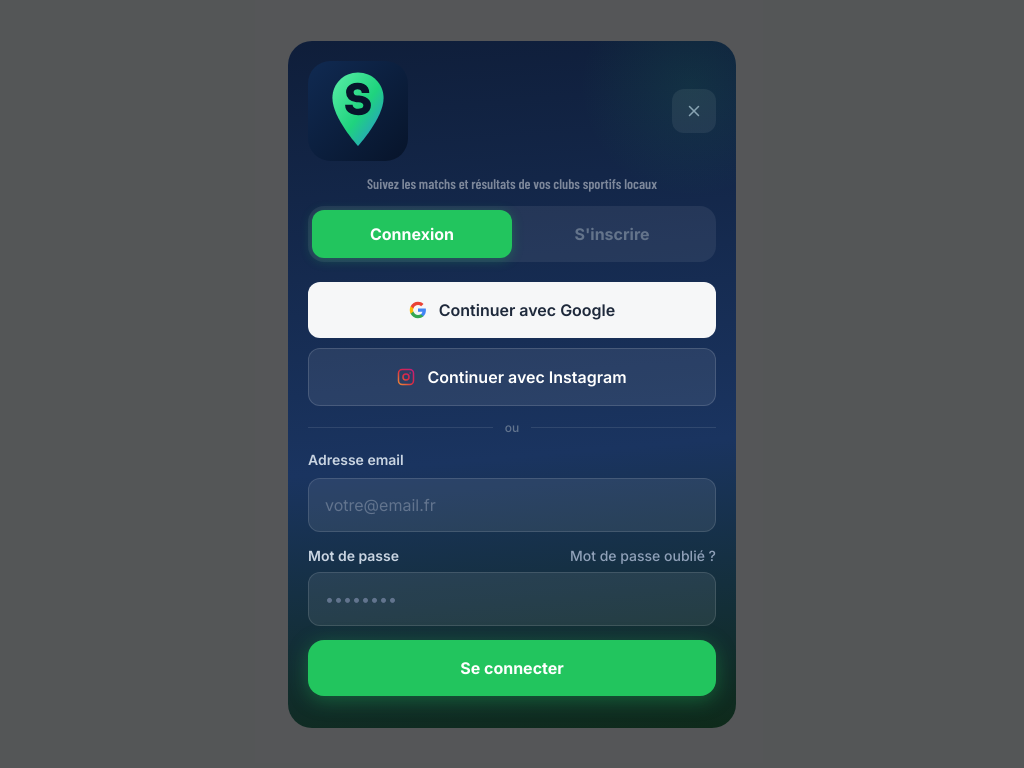
Test: AuthPage — validation register › affiche "Prénom ou surnom requis" si nom vide à la soumission
Click the button "S'inscrire". click: (612, 234)
box: [512,210,712,258]
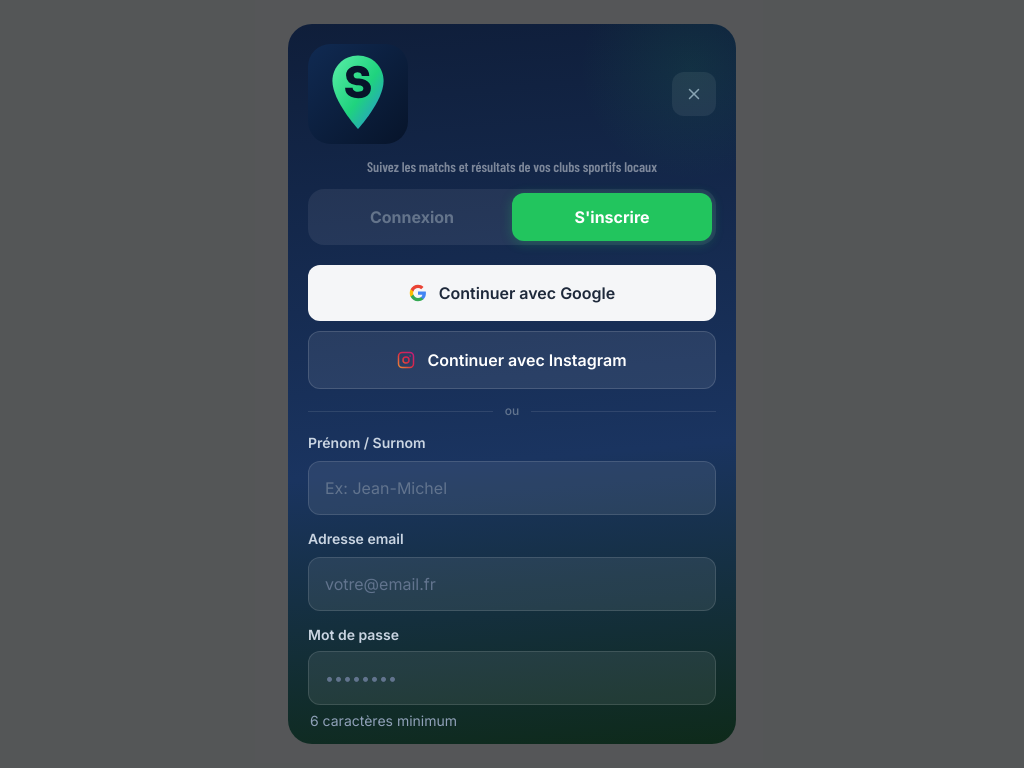
Ne remplit PAS le nom, remplit email + password + confirm
Type "test@test.com" into the field with placeholder "votre@email.fr". click: (512, 584)
box: [308,557,716,611]
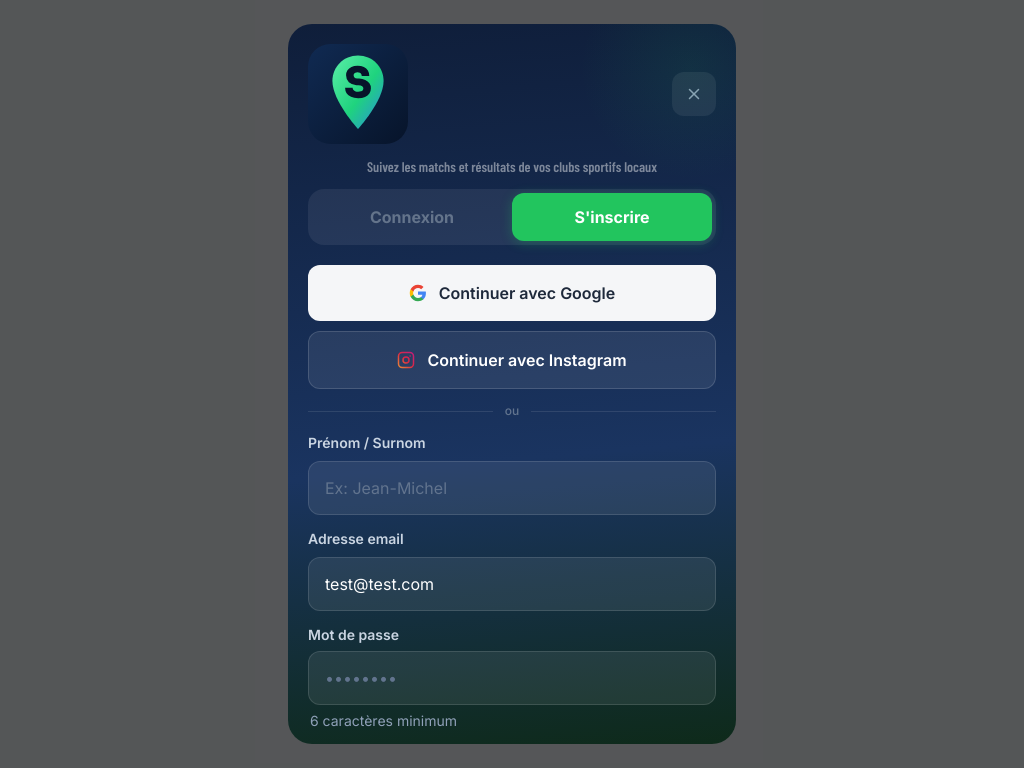
Type "azerty1" into the password field with placeholder "••••••••". click: (512, 678)
box: [308,651,716,705]
(page scrolled)
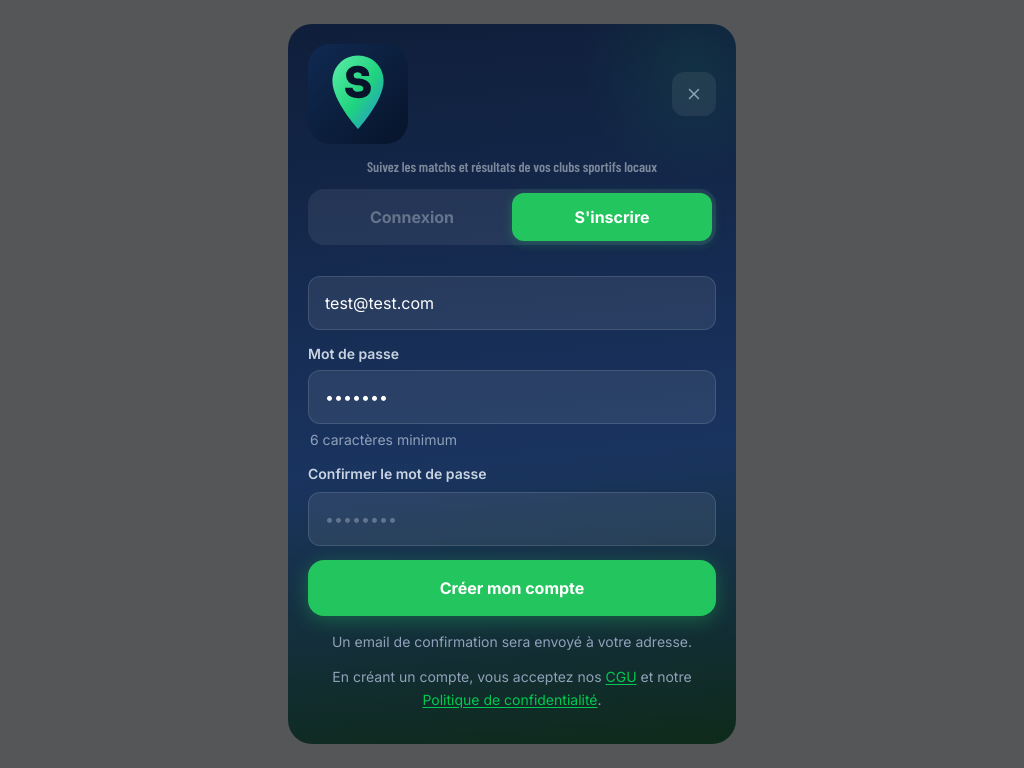
Type "azerty1" into the password field with placeholder "••••••••". click: (512, 519)
box: [308,492,716,546]
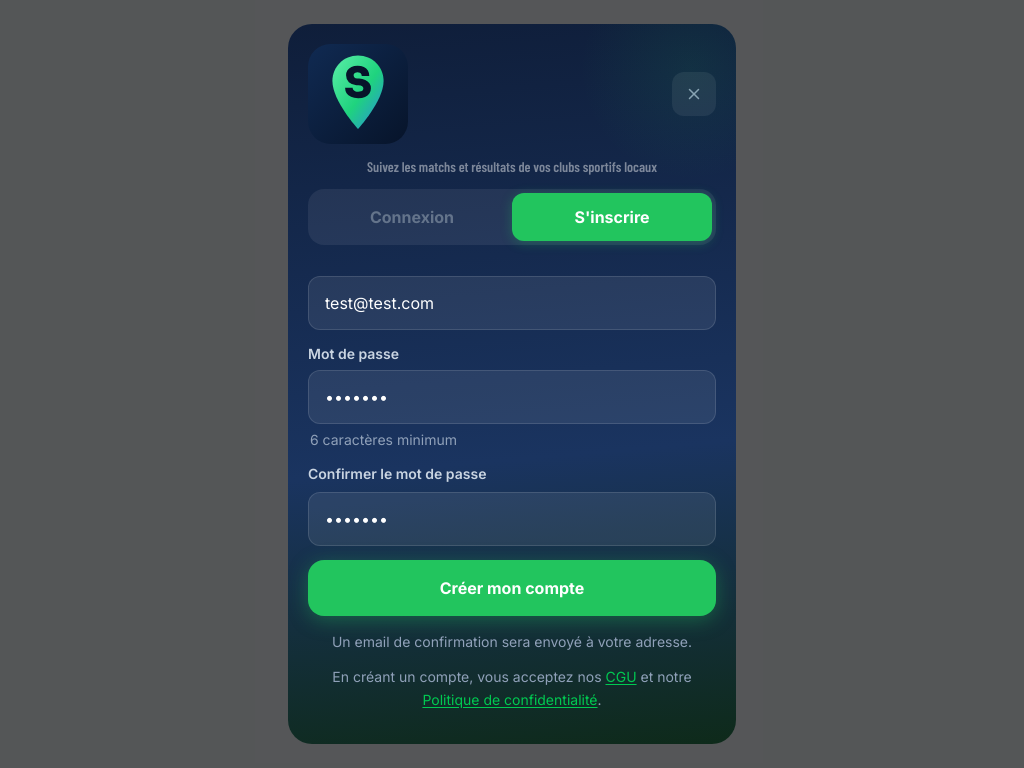
Submit the form, box [308,152,716,712]
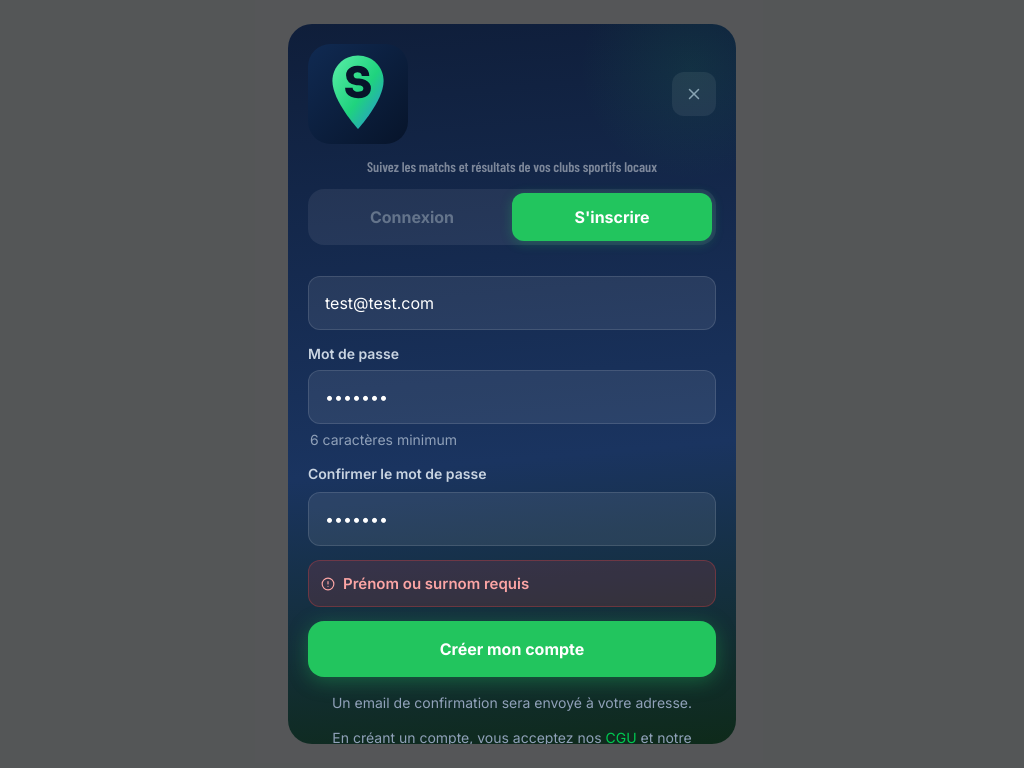
Check: the text "Prénom ou surnom requis" is shown, box [308,560,716,607]
